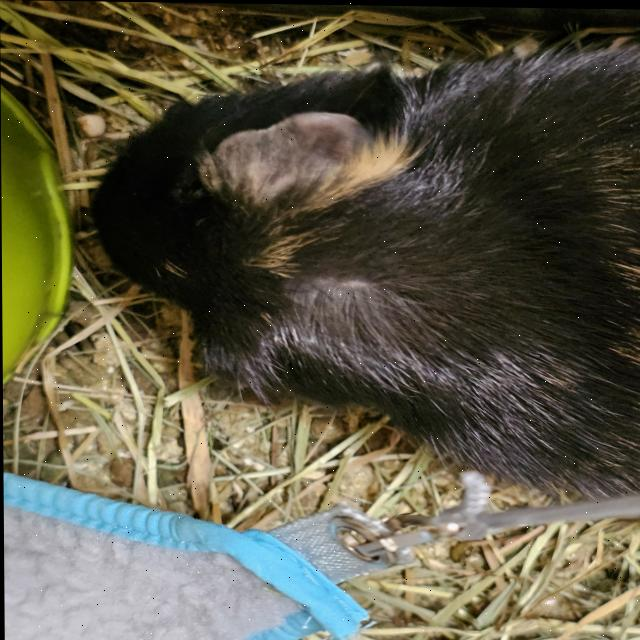guinea pig: (90, 28, 640, 521)
